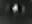person: (13, 4, 19, 15), (23, 6, 27, 17)
